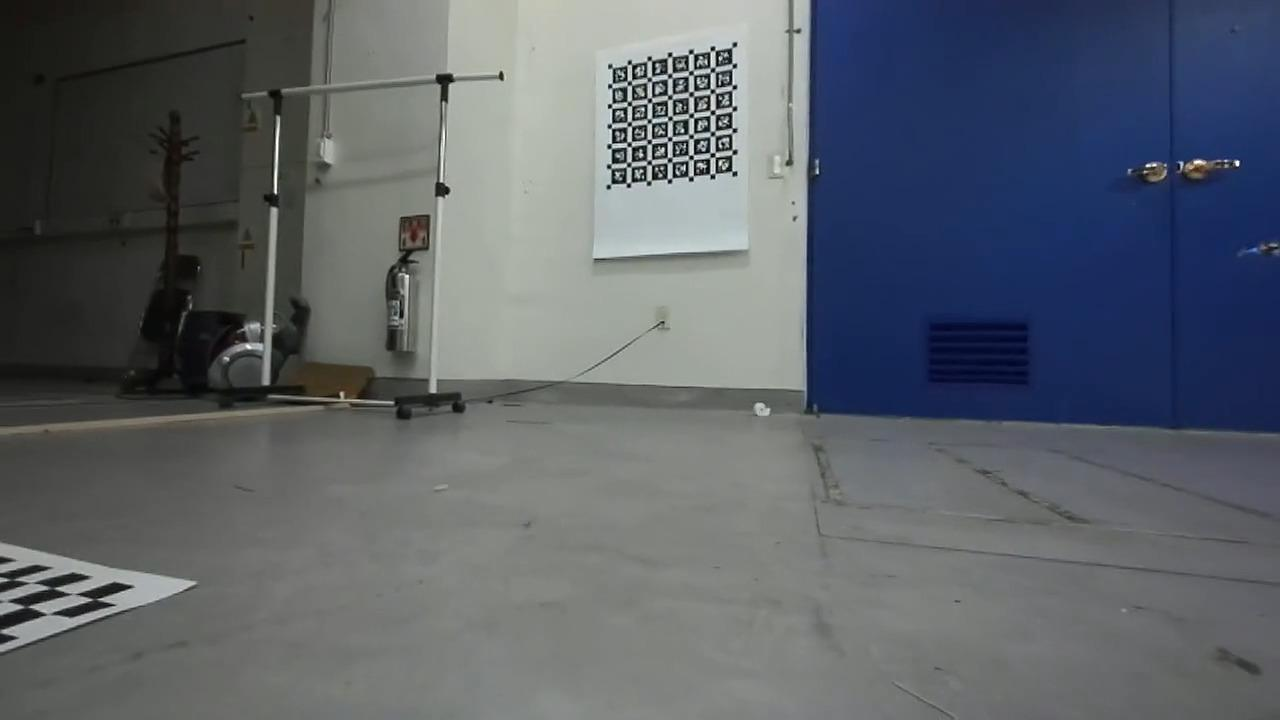crazyflie: (1233, 237, 1280, 263)
